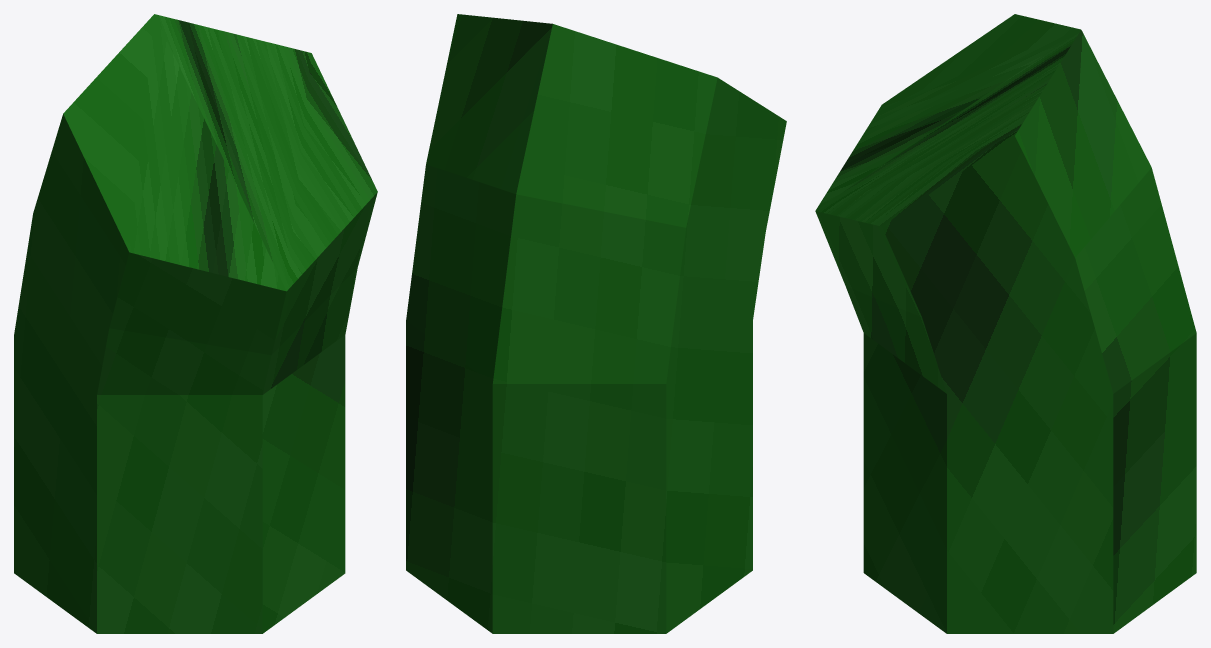
Rendered from thorn1.obj.
3 renders of one model, left to right at view 1: azimuth 30°, elevation 25°; view 2: azimuth 150°, elevation 25°; view 3: azimuth 270°, elevation 25°, orthographic. The views are drawn at different scales.
Parts seen in each view (by area): view 1: thorn_Cylinder; view 2: thorn_Cylinder; view 3: thorn_Cylinder.
Boxes of the visible parts, x1,y1,x2,y2 form: thorn_Cylinder: (14,14,377,633); thorn_Cylinder: (406,14,786,633); thorn_Cylinder: (815,14,1196,633).
Size of the model in its own units: 0.9207 by 1.91 by 1.22.
